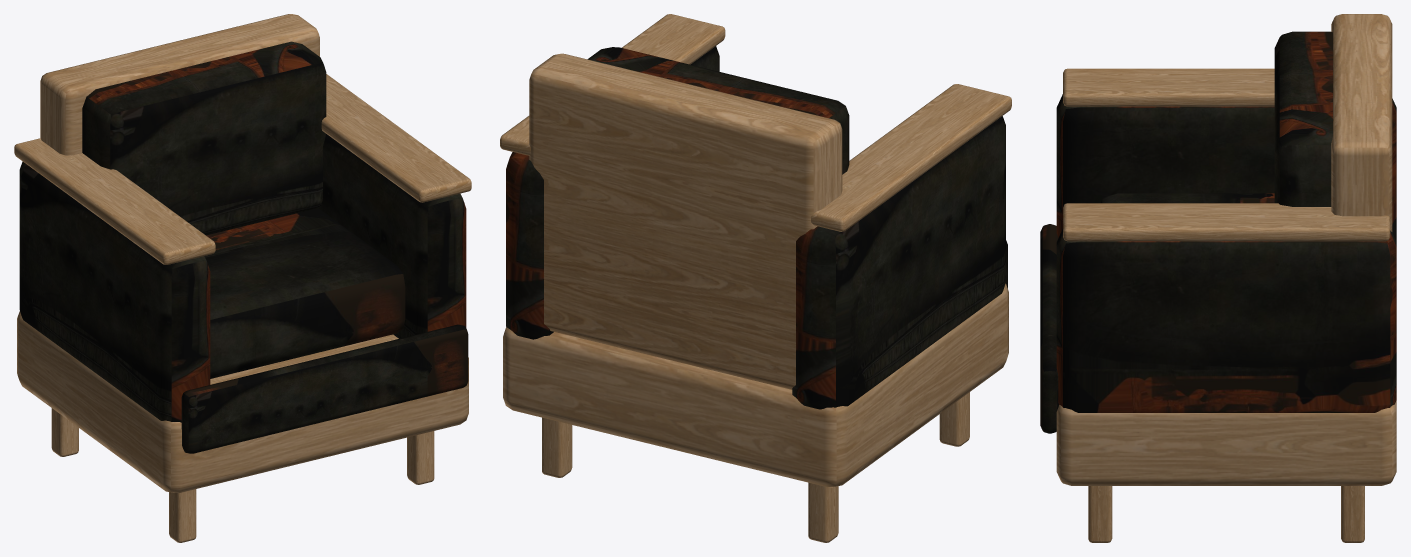
File: sofa_single_wine.glb
3 renders of one model, left to right at view 1: azimuth 30°, elevation 25°; view 2: azimuth 150°, elevation 25°; view 3: azimuth 270°, elevation 25°, orthographic. The views are drawn at different scales.
Parts seen in each view (by area): view 1: back cushion, armrest, seat cushion, sofa base, front rail, armrest.001, back frame, arm timber cap, arm timber cap.001, timber foot, timber foot.002, timber foot.001; view 2: back frame, sofa base, armrest, arm timber cap, armrest.001, back cushion, arm timber cap.001, timber foot.001, timber foot.003, timber foot; view 3: armrest.001, sofa base, armrest, back frame, arm timber cap.001, back cushion, arm timber cap, front rail, seat cushion, timber foot.002, timber foot.003.
Boxes of the visible parts, box(x1,y1,x2,y2) form: back cushion: box(82, 41, 326, 235); armrest: box(19, 161, 210, 422); seat cushion: box(204, 208, 405, 378); sofa base: box(17, 311, 468, 492); front rail: box(181, 324, 468, 453); armrest.001: box(319, 134, 466, 338); back frame: box(40, 14, 319, 155); arm timber cap: box(14, 138, 215, 264); arm timber cap.001: box(321, 74, 471, 202); timber foot: box(169, 489, 196, 542); timber foot.002: box(407, 431, 434, 484); timber foot.001: box(51, 408, 78, 456); back frame: box(529, 53, 842, 389); sofa base: box(503, 283, 1008, 487); armrest: box(792, 116, 1005, 409); arm timber cap: box(811, 84, 1011, 231); armrest.001: box(506, 46, 719, 339); back cushion: box(587, 47, 849, 174); arm timber cap.001: box(500, 14, 725, 155); timber foot.001: box(808, 482, 838, 542); timber foot.003: box(542, 417, 572, 477); timber foot: box(939, 392, 969, 446); armrest.001: box(1056, 229, 1396, 412); sofa base: box(1056, 400, 1396, 485); armrest: box(1056, 94, 1396, 241); back frame: box(1331, 14, 1392, 231); arm timber cap.001: box(1063, 203, 1390, 241); back cushion: box(1274, 31, 1332, 206); arm timber cap: box(1063, 68, 1274, 106); front rail: box(1040, 224, 1058, 433); seat cushion: box(1101, 193, 1274, 203); timber foot.002: box(1088, 486, 1112, 542); timber foot.003: box(1341, 486, 1364, 542).
Size of the model in its own units: 0.88 by 1.01 by 0.8175.
Materials: 3 (3 with a texture image).
